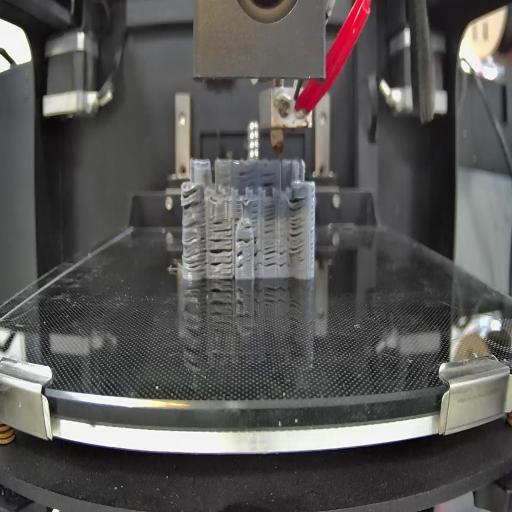cracks: (184, 221, 206, 274), (288, 195, 305, 258), (210, 237, 232, 274), (180, 190, 202, 212), (263, 205, 276, 237), (212, 219, 234, 234), (264, 244, 276, 270), (235, 198, 245, 223), (261, 171, 275, 186), (280, 245, 287, 272), (254, 247, 261, 273), (237, 170, 255, 180), (236, 250, 243, 272), (252, 203, 259, 222), (236, 238, 257, 244), (242, 223, 252, 231)
